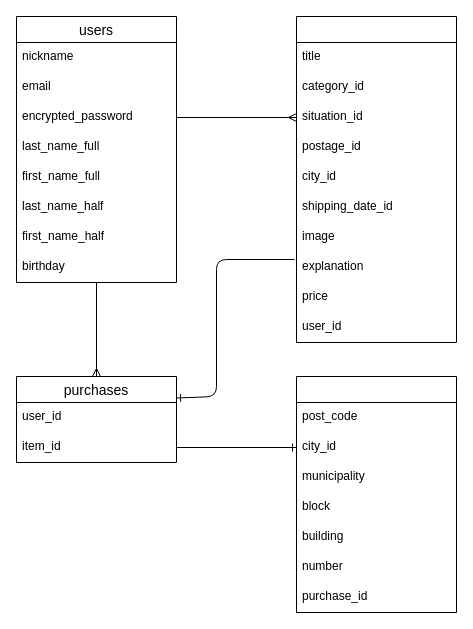
This 473x629 diagram has some shape labels left out. The shapes that lost their labels are listed below. From the top down, each one's box as (x1, y1, x2, y2) in pixels, then its label:
(296, 16, 456, 342): items
(296, 376, 456, 612): addresses
